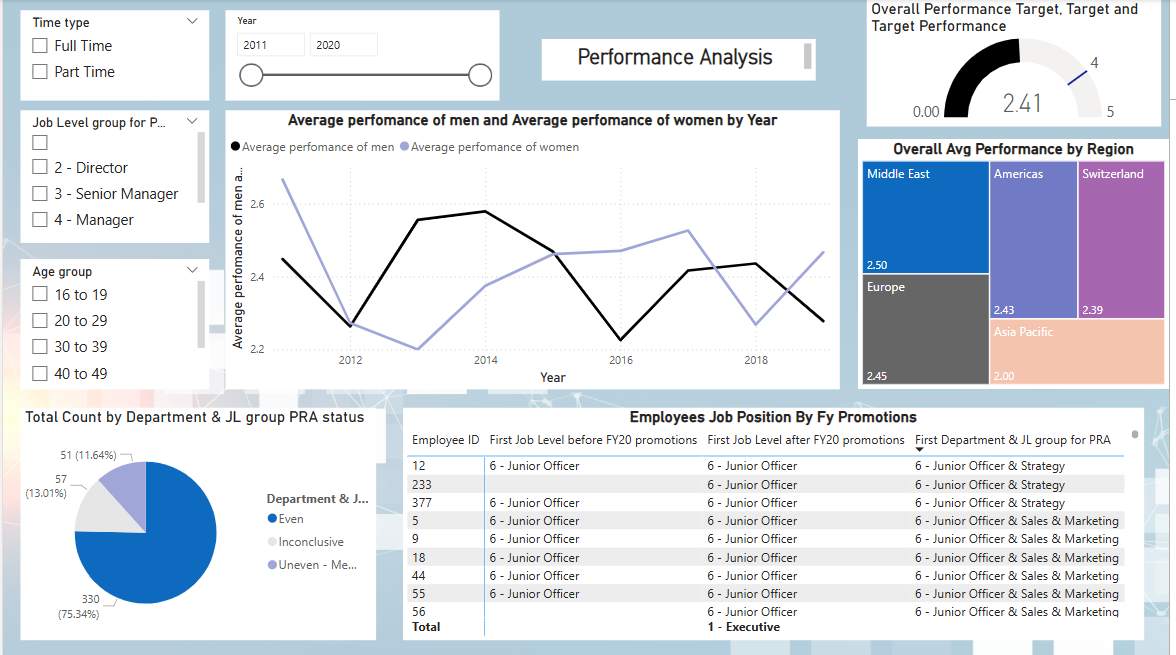

The dashboard page shown, as its layout file describes it:
{"tool":"powerbi","page":{"name":"Performance","canvas":[1280,720],"ordinal":1},"visuals":[{"type":"lineChart","fields":{"Category":["Date.Year"],"Y":["Measures_1.Average perfomance of men","Measures_1.Average perfomance of women"]},"box":[244.5,122.3,674.5,306.3],"z":0},{"type":"slicer","fields":{"Values":["Pharma Group AG (2).Time type"]},"box":[19.2,12.4,207.4,98.9],"z":1000},{"type":"slicer","fields":{"Values":["Date.Year"]},"box":[244.5,12.4,300.8,98.9],"z":2000},{"type":"gauge","fields":{"MaxValue":["Measures_1.Target"],"Y":["Measures_1.overall_avg_performance"],"TargetValue":["Measures_1.target1"]},"box":[947.8,0,322.8,140.1],"z":3000},{"type":"slicer","fields":{"Values":["Pharma Group AG (2).Age group"]},"box":[19.2,285.7,207.4,142.9],"z":4000},{"type":"slicer","fields":{"Values":["Pharma Group AG (2).Job Level group for PRA"]},"box":[19.2,122.1,207.2,145.5],"z":5000},{"type":"pieChart","title":"Total Count by Department & JL group PRA status","fields":{"Y":["Measures_1.total count"],"Category":["Pharma Group AG (2).Department & JL group PRA status"]},"box":[19.2,449.2,390.1,255.5],"z":6000},{"type":"pivotTable","title":"Employees Job Position By Fy Promotions","fields":{"Rows":["Pharma Group AG (2).Employee ID"],"Values":["Min(Pharma Group AG (2).Job Level before FY20 promotions)","Min(Pharma Group AG (2).Job Level after FY20 promotions)","Min(Pharma Group AG (2).Department & JL group for PRA)"]},"box":[439.6,449.2,813.2,255.5],"z":7000},{"type":"treemap","title":"Overall Avg Performance by Region ","fields":{"Group":["Pharma Group AG (2).Region group: nationality 1"],"Values":["Measures_1.overall_avg_performance"]},"box":[938.2,153.9,342,274.7],"z":8000},{"type":"textbox","box":[592.1,44,300.8,45.3],"z":9000}]}

Visuals, with their boxes in screenshot pixels (x1, y1, x2, y2), scaled from the page's 1280x720 canvas onto the 1176x655 screenshot:
lineChart - Date.Year x Measures_1.Average perfomance of men: [x1=225, y1=111, x2=844, y2=390]
slicer - Pharma Group AG (2).Time type: [x1=18, y1=11, x2=208, y2=101]
slicer - Date.Year: [x1=225, y1=11, x2=501, y2=101]
gauge - Measures_1.Target x Measures_1.overall_avg_performance: [x1=871, y1=0, x2=1167, y2=127]
slicer - Pharma Group AG (2).Age group: [x1=18, y1=260, x2=208, y2=390]
slicer - Pharma Group AG (2).Job Level group for PRA: [x1=18, y1=111, x2=208, y2=243]
"Total Count by Department & JL group PRA status" pieChart: [x1=18, y1=409, x2=376, y2=641]
"Employees Job Position By Fy Promotions" pivotTable: [x1=404, y1=409, x2=1151, y2=641]
"Overall Avg Performance by Region " treemap: [x1=862, y1=140, x2=1175, y2=390]
textbox: [x1=544, y1=40, x2=820, y2=81]
